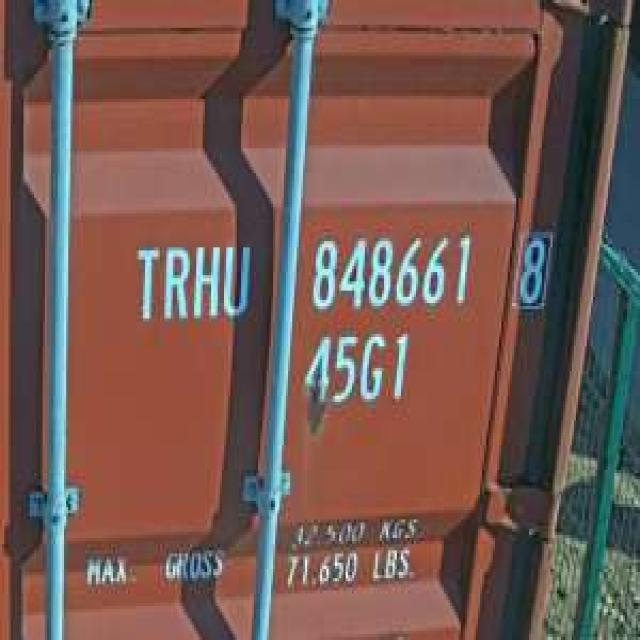dv: (510, 220, 555, 316)
owner: (128, 232, 254, 331)
serial: (301, 222, 476, 318)
size: (299, 325, 414, 414)
